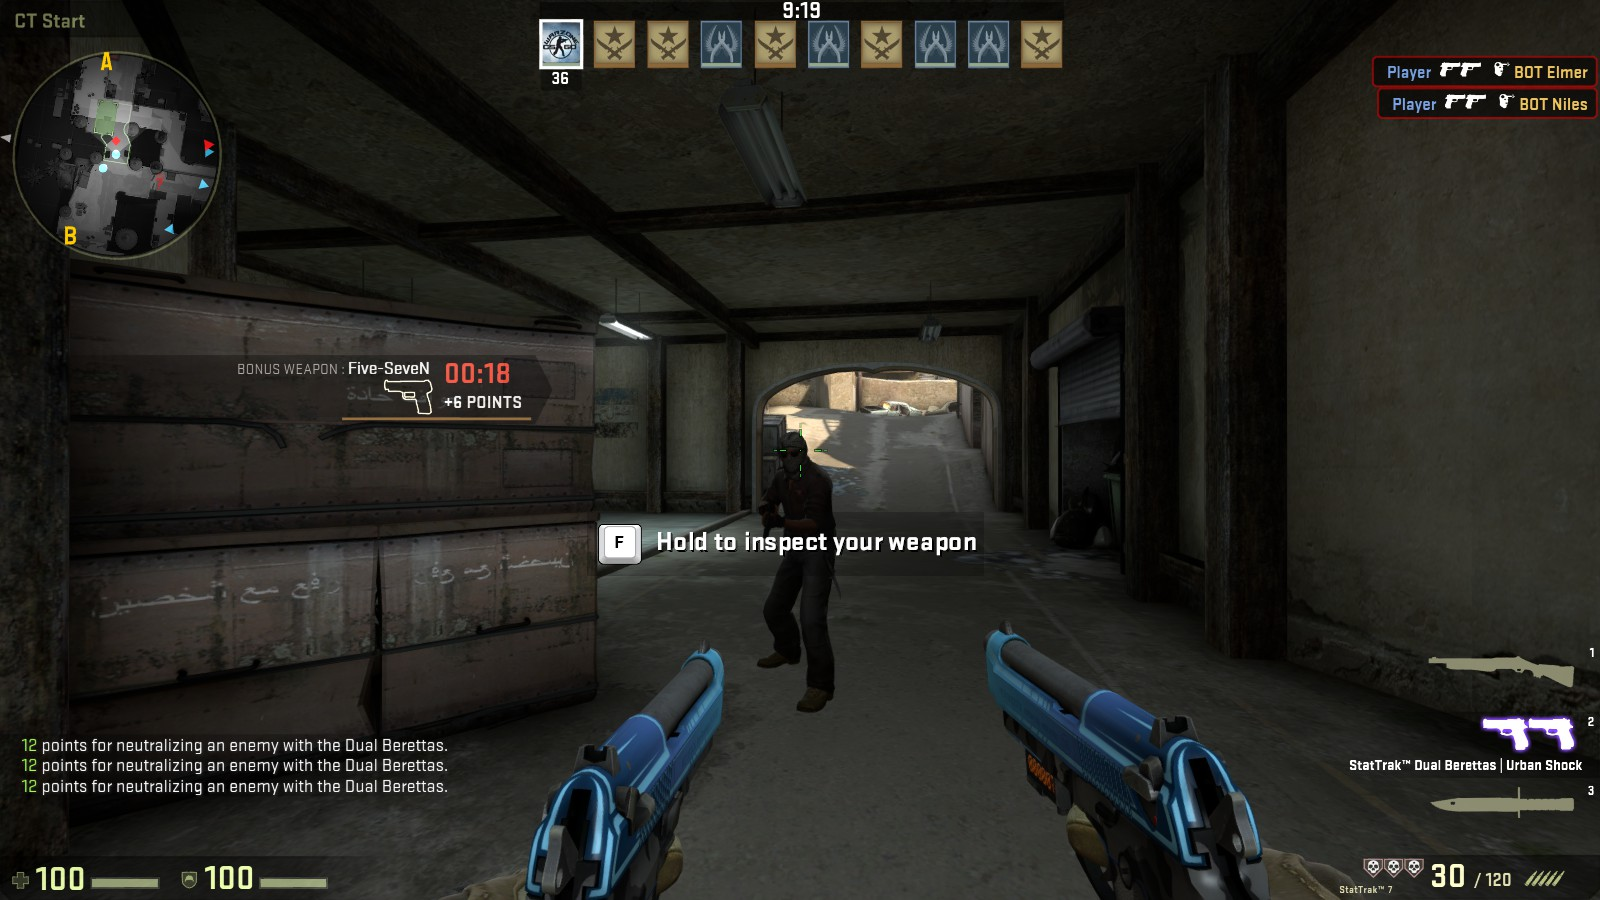t: (763, 429, 838, 711)
th: (774, 429, 816, 482)
